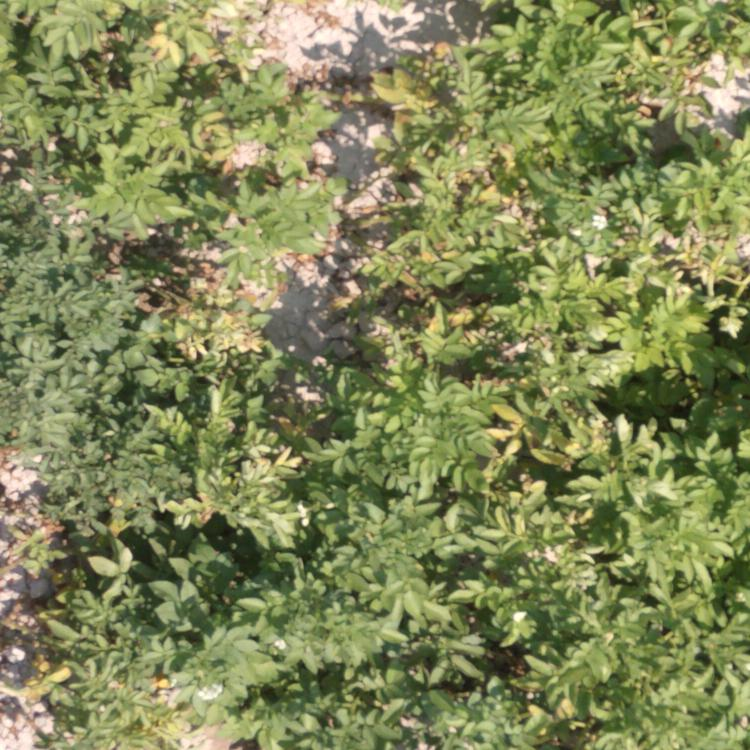healthy: (1, 389, 748, 742), (518, 3, 745, 299), (4, 1, 179, 384), (379, 304, 739, 382)
stressed: (173, 48, 357, 381), (357, 52, 496, 300)
